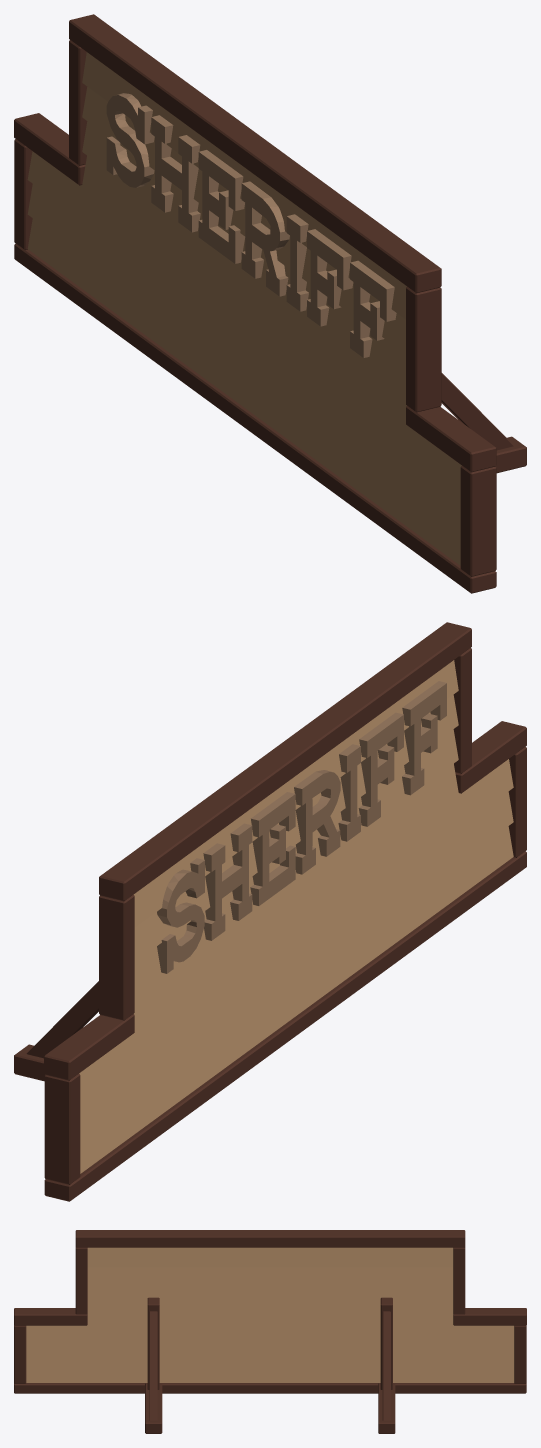
File: sheriff-sign-c.glb
3 renders of one model, top to bottom at view 1: azimuth 30°, elevation 25°; view 2: azimuth 150°, elevation 25°; view 3: azimuth 270°, elevation 25°, orthographic. The views are drawn at different scales.
Visible parts, largest first — view 1: Sheriff Sign C (×3); view 2: Sheriff Sign C (×3); view 3: Sheriff Sign C (×2).
Boxes of the visible parts, x1,y1,x2,y2 form: Sheriff Sign C (×3): [14, 14, 526, 593]; Sheriff Sign C (×3): [14, 622, 526, 1201]; Sheriff Sign C (×2): [14, 1230, 526, 1433].
Size of the model in its own units: 1.46 by 2.23 by 6.6.
